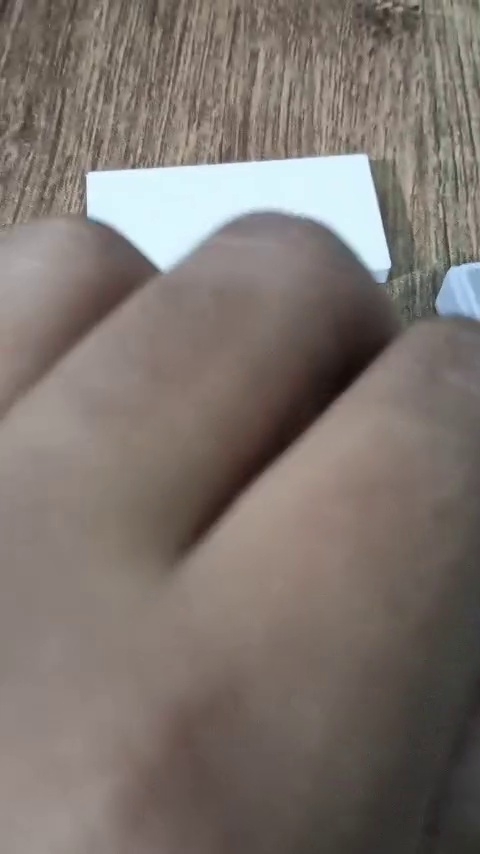lid: (85, 152, 393, 286)
